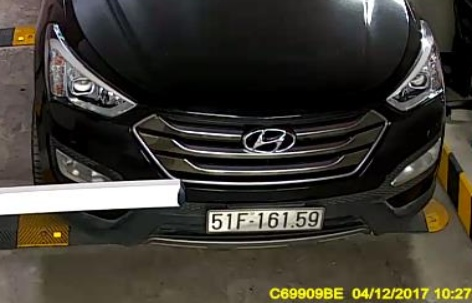plate: (203, 205, 324, 238)
